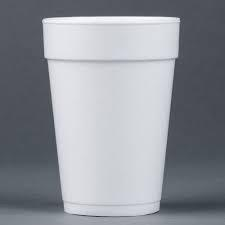Plastic cup: (36, 9, 198, 222)
